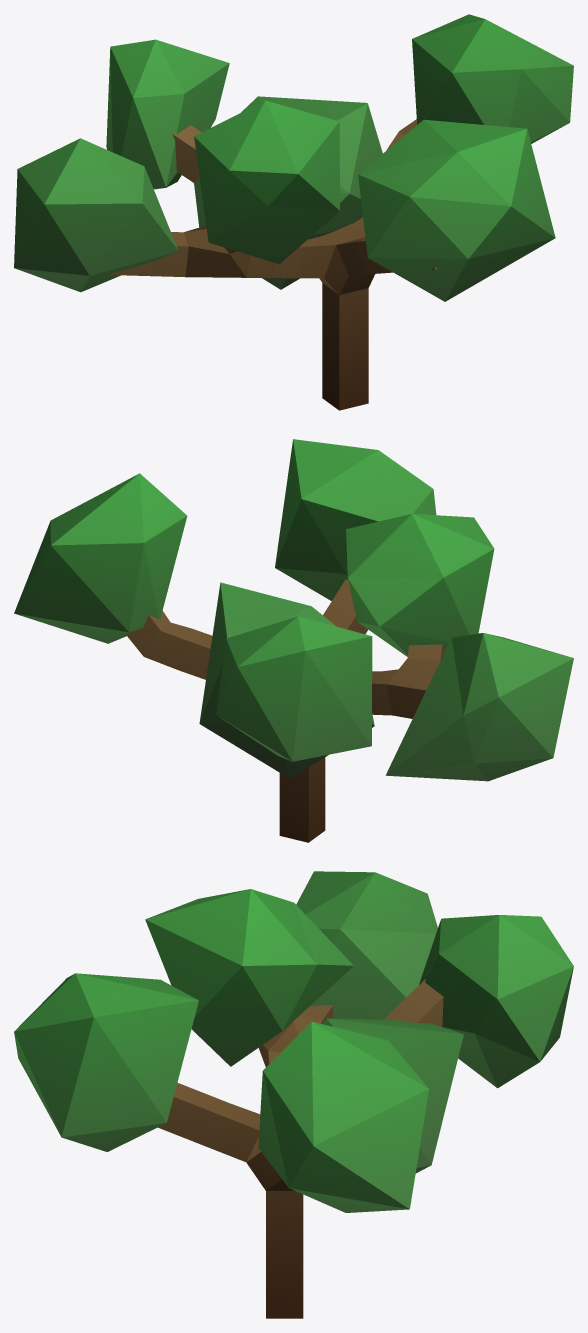
File: oak.glb
The picture shows the model from 3 angles, top to bottom: view 1: azimuth 30°, elevation 25°; view 2: azimuth 150°, elevation 25°; view 3: azimuth 270°, elevation 25°; orthographic projection. The views are drawn at different scales.
Visible parts, largest first — view 1: Icosphere.004, Cube.004; view 2: Icosphere.004, Cube.004; view 3: Icosphere.004, Cube.004.
Boxes of the visible parts, left/top/right/bottom form: Icosphere.004: left=14, top=14, right=573, bottom=301; Cube.004: left=109, top=119, right=437, bottom=410; Icosphere.004: left=14, top=439, right=573, bottom=781; Cube.004: left=126, top=579, right=445, bottom=842; Icosphere.004: left=14, top=871, right=573, bottom=1212; Cube.004: left=158, top=979, right=443, bottom=1318.
Bounding box in the file's own units: 9.11 × 5.47 × 7.48.
